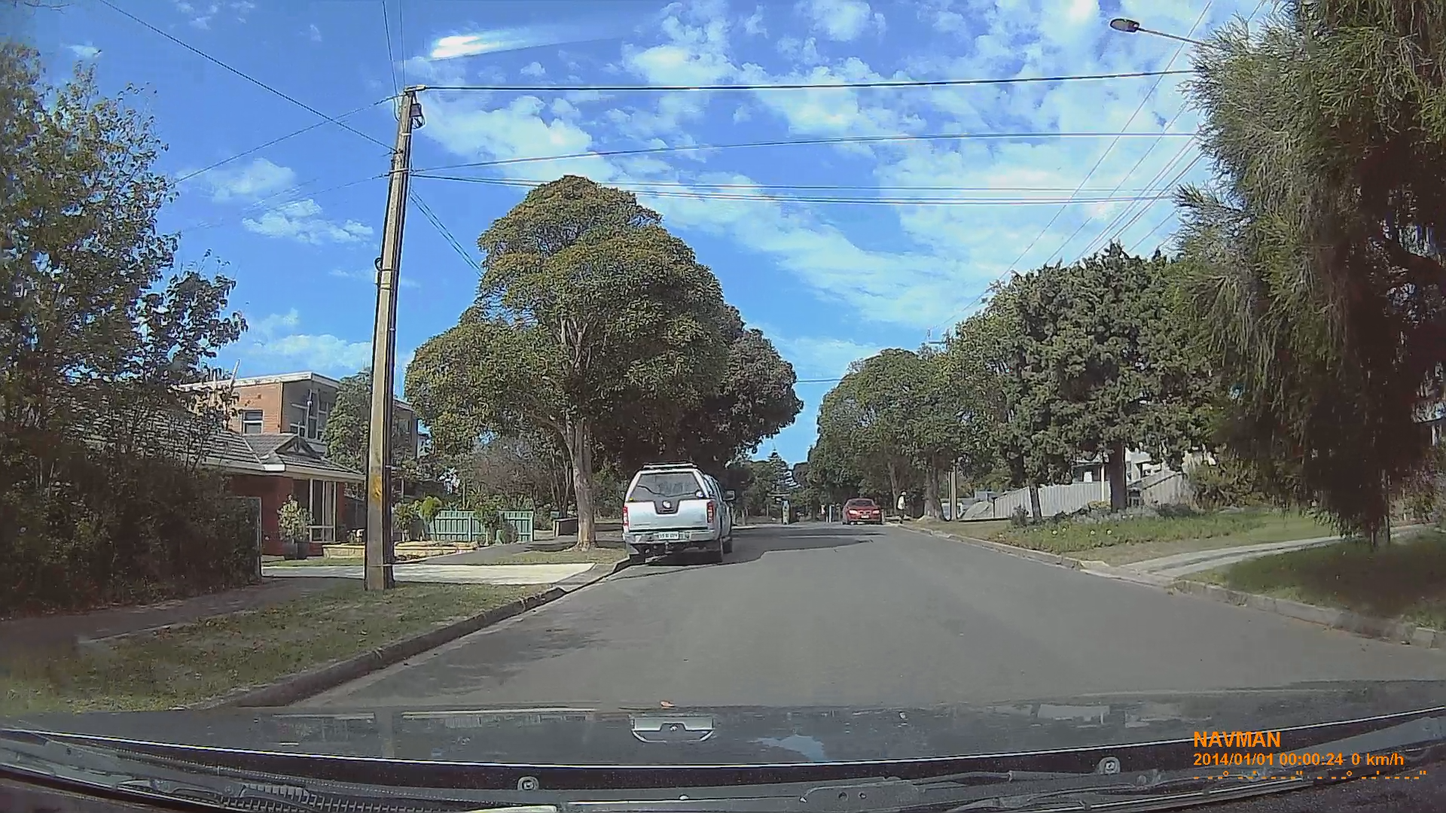fences: (0, 452, 261, 617), (431, 510, 482, 541)
